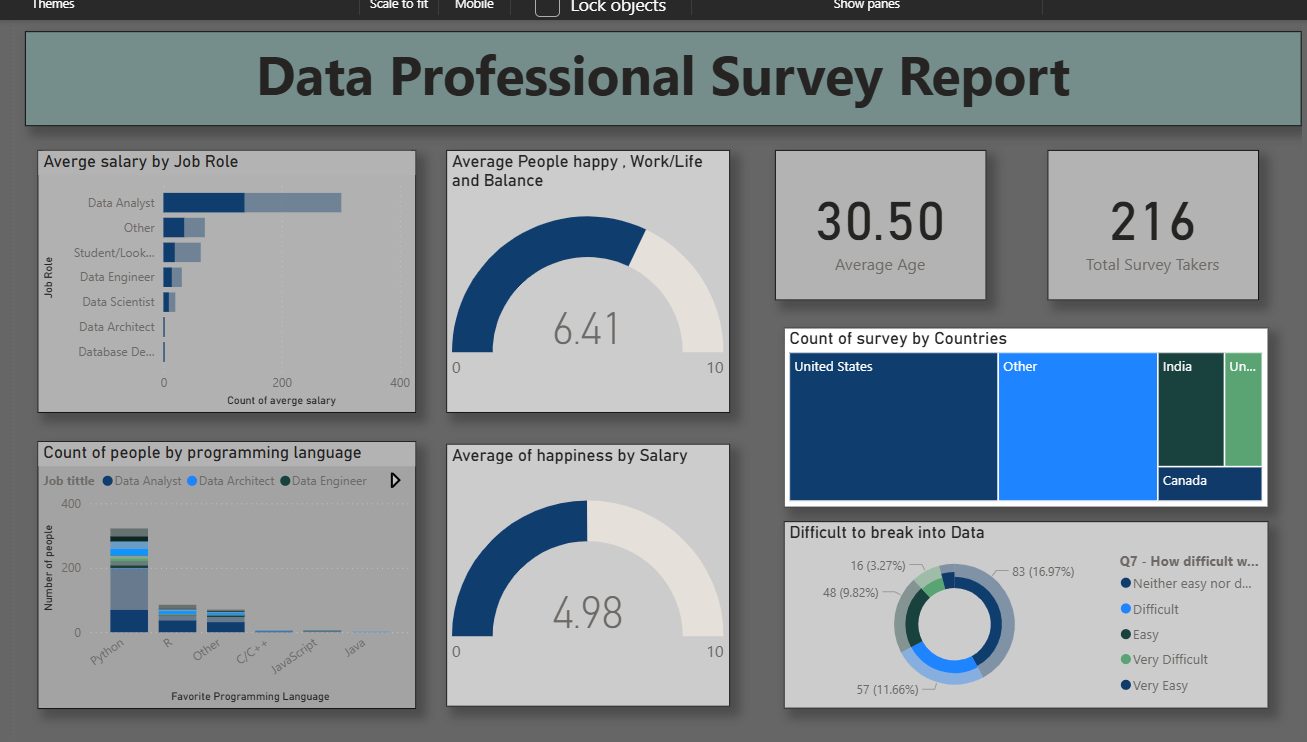

Layout of this report page (visuals, bound fields, positions):
{"tool":"powerbi","page":{"name":"Page 1","canvas":[1280,720],"ordinal":0},"visuals":[{"type":"textbox","box":[10,0,1270.1,94.5],"z":0},{"type":"card","fields":{"Values":["CountNonNull(Data Professional Survey.Unique ID)"]},"box":[1027.5,129.4,210.2,149.3],"z":1000},{"type":"card","fields":{"Values":["Avg(Data Professional Survey.Q10 - Current Age)"]},"box":[756.3,129.4,210.2,149.3],"z":2000},{"type":"clusteredBarChart","title":"Averge salary by Job Role","fields":{"Category":["Data Professional Survey.Q1 - Which Title Best Fits your Current Role?.1"],"Y":["CountNonNull(Data Professional Survey.averge salary)"]},"box":[22.4,129.4,376.9,261.2],"z":2001},{"type":"lineStackedColumnComboChart","title":"Count of people by programming language","fields":{"Category":["Data Professional Survey.Q5 - Favorite Programming Language.1.1"],"Y":["CountNonNull(Data Professional Survey.Unique ID)"],"Series":["Data Professional Survey.Q1 - Which Title Best Fits your Current Role?.1"]},"box":[22.4,419.2,376.9,266.2],"z":2002},{"type":"treemap","fields":{"Values":["CountNonNull(Data Professional Survey.Q11 - Which Country do you live in?.1)"],"Group":["Data Professional Survey.Q11 - Which Country do you live in?.1"]},"box":[765,306,482.7,179.1],"z":2003},{"type":"gauge","fields":{"MaxValue":["Max(Data Professional Survey.Q6 - How Happy are you in your Current Position with the following? (Work/Life Balance))"],"MinValue":["Min(Data Professional Survey.Q6 - How Happy are you in your Current Position with the following? (Work/Life Balance))"],"Y":["Avg(Data Professional Survey.Q6 - How Happy are you in your Current Position with the following? (Work/Life Balance))1"]},"box":[429.2,129.4,282.4,261.2],"z":2004},{"type":"gauge","title":"Average of happiness by Salary","fields":{"MinValue":["Min(Data Professional Survey.Q6 - How Happy are you in your Current Position with the following? (Salary))"],"Y":["Avg(Data Professional Survey.Q6 - How Happy are you in your Current Position with the following? (Salary))"],"MaxValue":["Max(Data Professional Survey.Q6 - How Happy are you in your Current Position with the following? (Salary))"]},"box":[429.2,421.7,282.4,261.2],"z":2005},{"type":"donutChart","title":"Difficult to  break into Data","fields":{"Y":["CountNonNull(Data Professional Survey.Q7 - How difficult was it for you to break into Data?)"],"Category":["Data Professional Survey.Q7 - How difficult was it for you to break into Data?"]},"box":[765,498.8,482.7,186.6],"z":2006}]}

Visuals, with their boxes in screenshot pixels (x1, y1, x2, y2):
textbox: bbox(20, 17, 1299, 112)
card - CountNonNull(Data Professional Survey.Unique ID): bbox(1045, 147, 1257, 298)
card - Avg(Data Professional Survey.Q10 - Current Age): bbox(772, 147, 983, 298)
"Averge salary by Job Role" clusteredBarChart: bbox(33, 147, 412, 410)
"Count of people by programming language" lineStackedColumnComboChart: bbox(33, 439, 412, 707)
treemap - CountNonNull(Data Professional Survey.Q11 - Which Country do you live in?.1) x Data Professional Survey.Q11 - Which Country do you live in?.1: bbox(781, 325, 1267, 506)
gauge - Max(Data Professional Survey.Q6 - How Happy are you in your Current Position with the following? (Work/Life Balance)) x Min(Data Professional Survey.Q6 - How Happy are you in your Current Position with the following? (Work/Life Balance)): bbox(442, 147, 727, 410)
"Average of happiness by Salary" gauge: bbox(442, 442, 727, 705)
"Difficult to  break into Data" donutChart: bbox(781, 519, 1267, 707)
